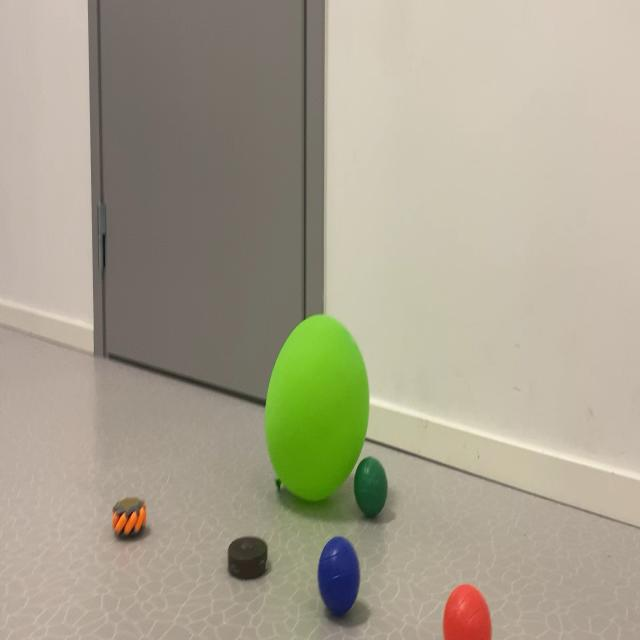7: (418, 551, 505, 640)
green ball: (299, 524, 390, 622)
red ball: (348, 433, 397, 521)
